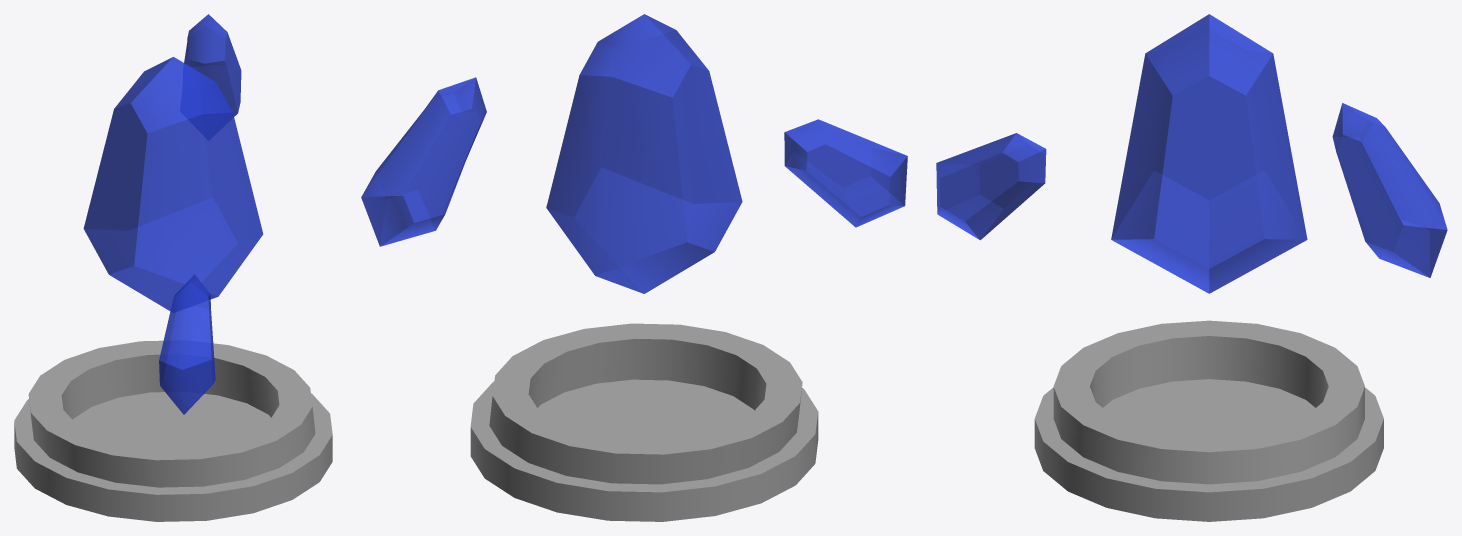
Rendered from Cristal_Liquido.fbx.
3 views of the same model, side by side, from view 1: azimuth 30°, elevation 25°; view 2: azimuth 150°, elevation 25°; view 3: azimuth 270°, elevation 25° (orthographic). The views are drawn at different scales.
Visible parts, largest first — view 1: Plataforma, Prisma; view 2: Prisma, Plataforma; view 3: Prisma, Plataforma.
Boxes of the visible parts, bbox=[...] form: Plataforma: bbox=[14, 340, 332, 521]; Prisma: bbox=[83, 14, 263, 414]; Prisma: bbox=[361, 14, 907, 293]; Plataforma: bbox=[470, 323, 818, 521]; Prisma: bbox=[936, 14, 1447, 293]; Plataforma: bbox=[1034, 320, 1383, 521].
Bounding box in the file's own units: 149 × 192 × 205.
